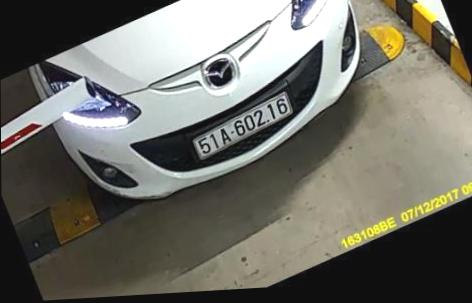License_Plate: (184, 93, 300, 164)
